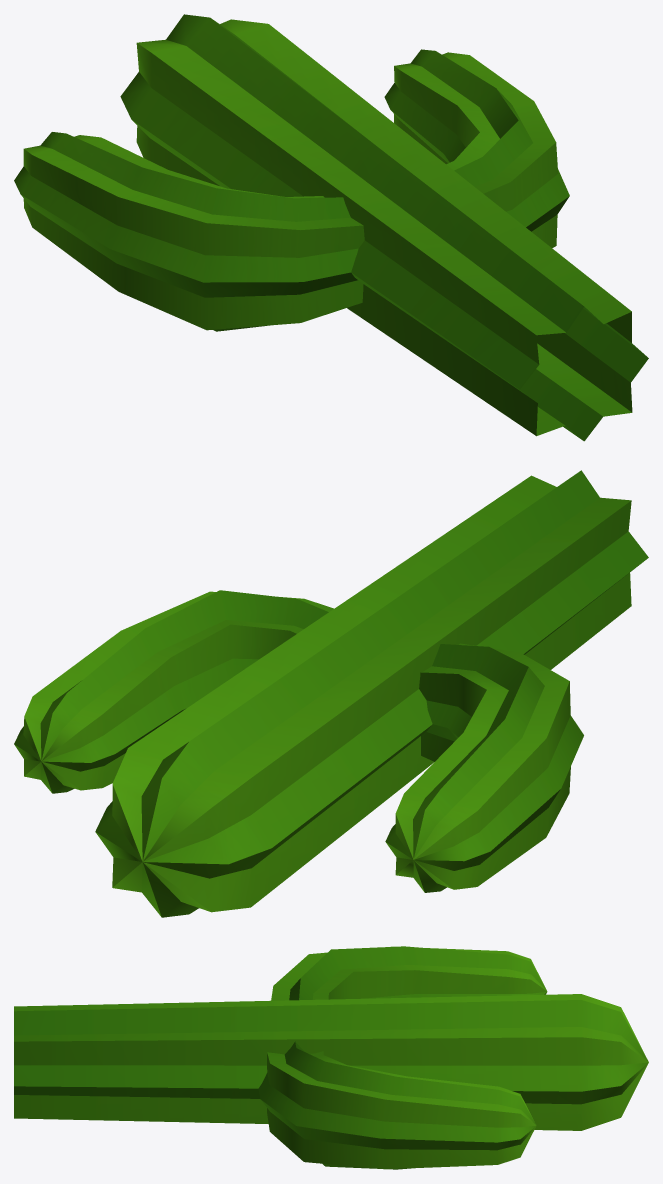
File: Cactus 04.FBX
The picture shows the model from 3 angles, top to bottom: view 1: azimuth 30°, elevation 25°; view 2: azimuth 150°, elevation 25°; view 3: azimuth 270°, elevation 25°; orthographic projection. The views are drawn at different scales.
Parts seen in each view (by area): view 1: Cactus 04; view 2: Cactus 04; view 3: Cactus 04.
Boxes of the visible parts, x1=… form: Cactus 04: x1=14, y1=14, x2=648, y2=441; Cactus 04: x1=14, y1=470, x2=648, y2=917; Cactus 04: x1=14, y1=946, x2=648, y2=1169.
Size of the model in its own units: 166 by 57.58 by 265.
1 material, 1 textured.
